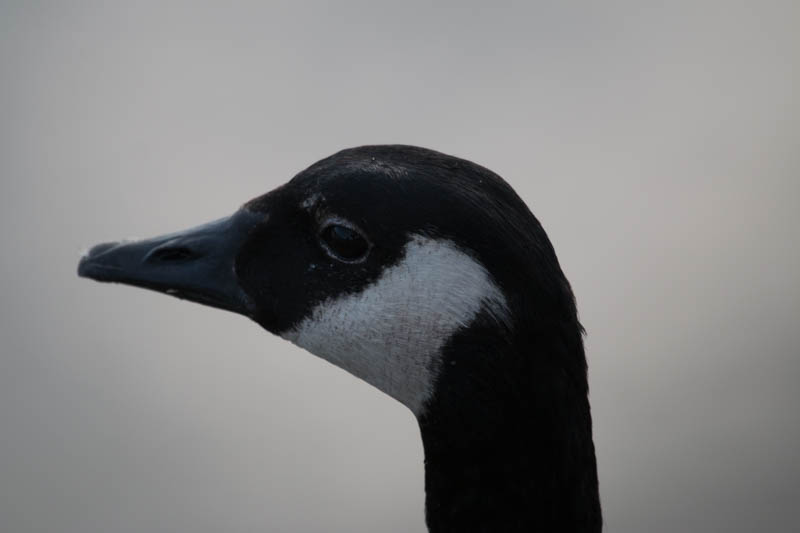goose-head: (77, 144, 577, 416)
